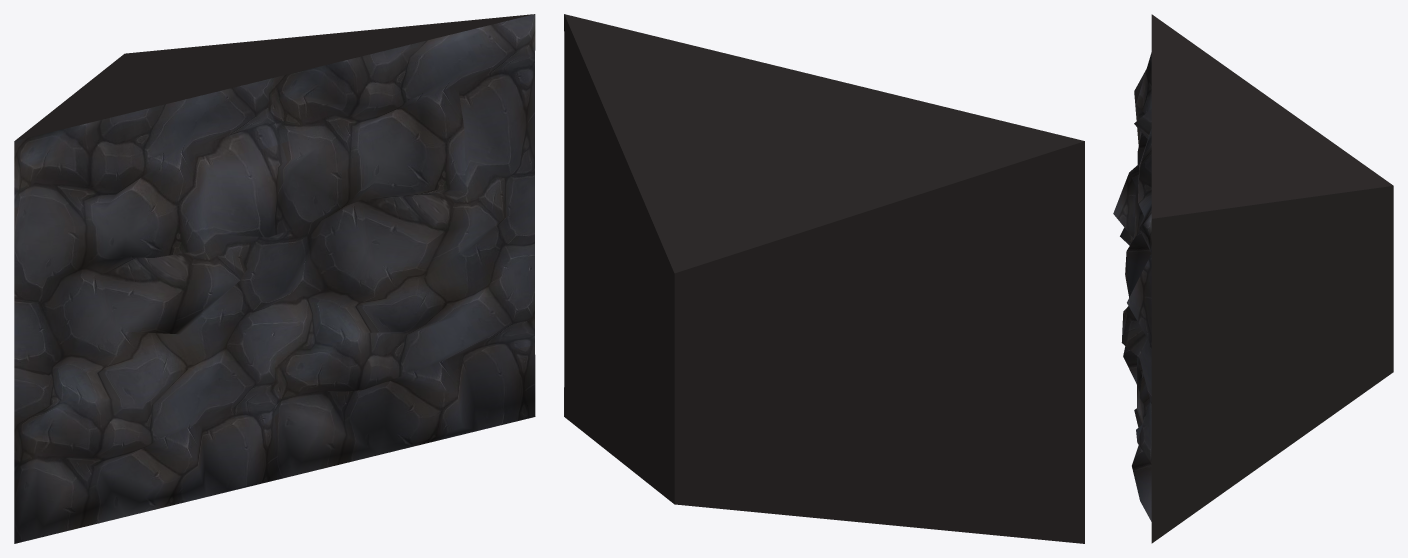
File: Wall_stone.002.fbx
3 views of the same model, side by side, from view 1: azimuth 30°, elevation 25°; view 2: azimuth 150°, elevation 25°; view 3: azimuth 270°, elevation 25° (orthographic). The views are drawn at different scales.
Parts seen in each view (by area): view 1: Wall_stone.002; view 2: Wall_stone.002; view 3: Wall_stone.002.
Boxes of the visible parts, x1,y1,x2,y2 form: Wall_stone.002: (14, 14, 535, 543); Wall_stone.002: (564, 14, 1084, 543); Wall_stone.002: (1113, 14, 1393, 543).
Bounding box in the file's own units: 400 × 296 × 232.
